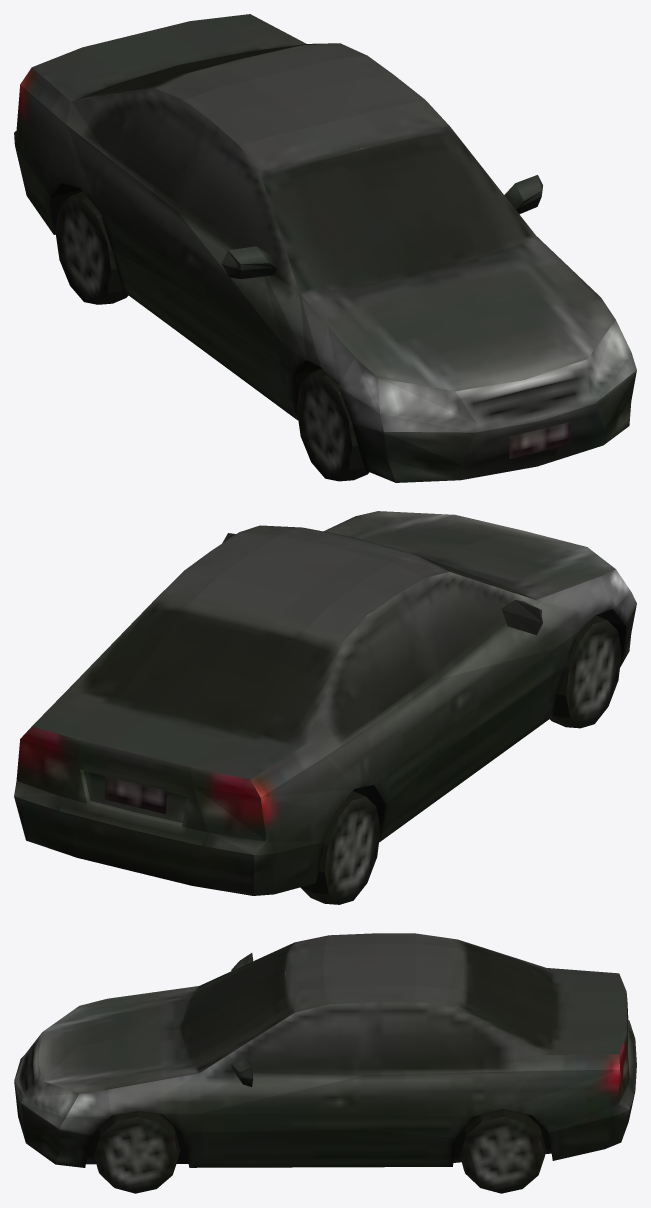
File: sedan_lo.glb
The picture shows the model from 3 angles, top to bottom: view 1: azimuth 30°, elevation 25°; view 2: azimuth 150°, elevation 25°; view 3: azimuth 270°, elevation 25°; orthographic projection. The views are drawn at different scales.
Parts seen in each view (by area): view 1: BODY, W1, W0; view 2: BODY, W1, W0; view 3: BODY, W2, W3.
Part boxes in pixels (x1,y1,x2,y2): BODY: (14, 14, 636, 482); W1: (55, 191, 128, 304); W0: (296, 368, 369, 481); BODY: (14, 511, 636, 895); W1: (300, 791, 380, 904); W0: (550, 615, 621, 728); BODY: (14, 933, 636, 1167); W2: (458, 1108, 546, 1193); W3: (92, 1111, 180, 1193).
Bounding box in the file's own units: 2.08 × 1.48 × 4.6.
1 material, 1 textured.
